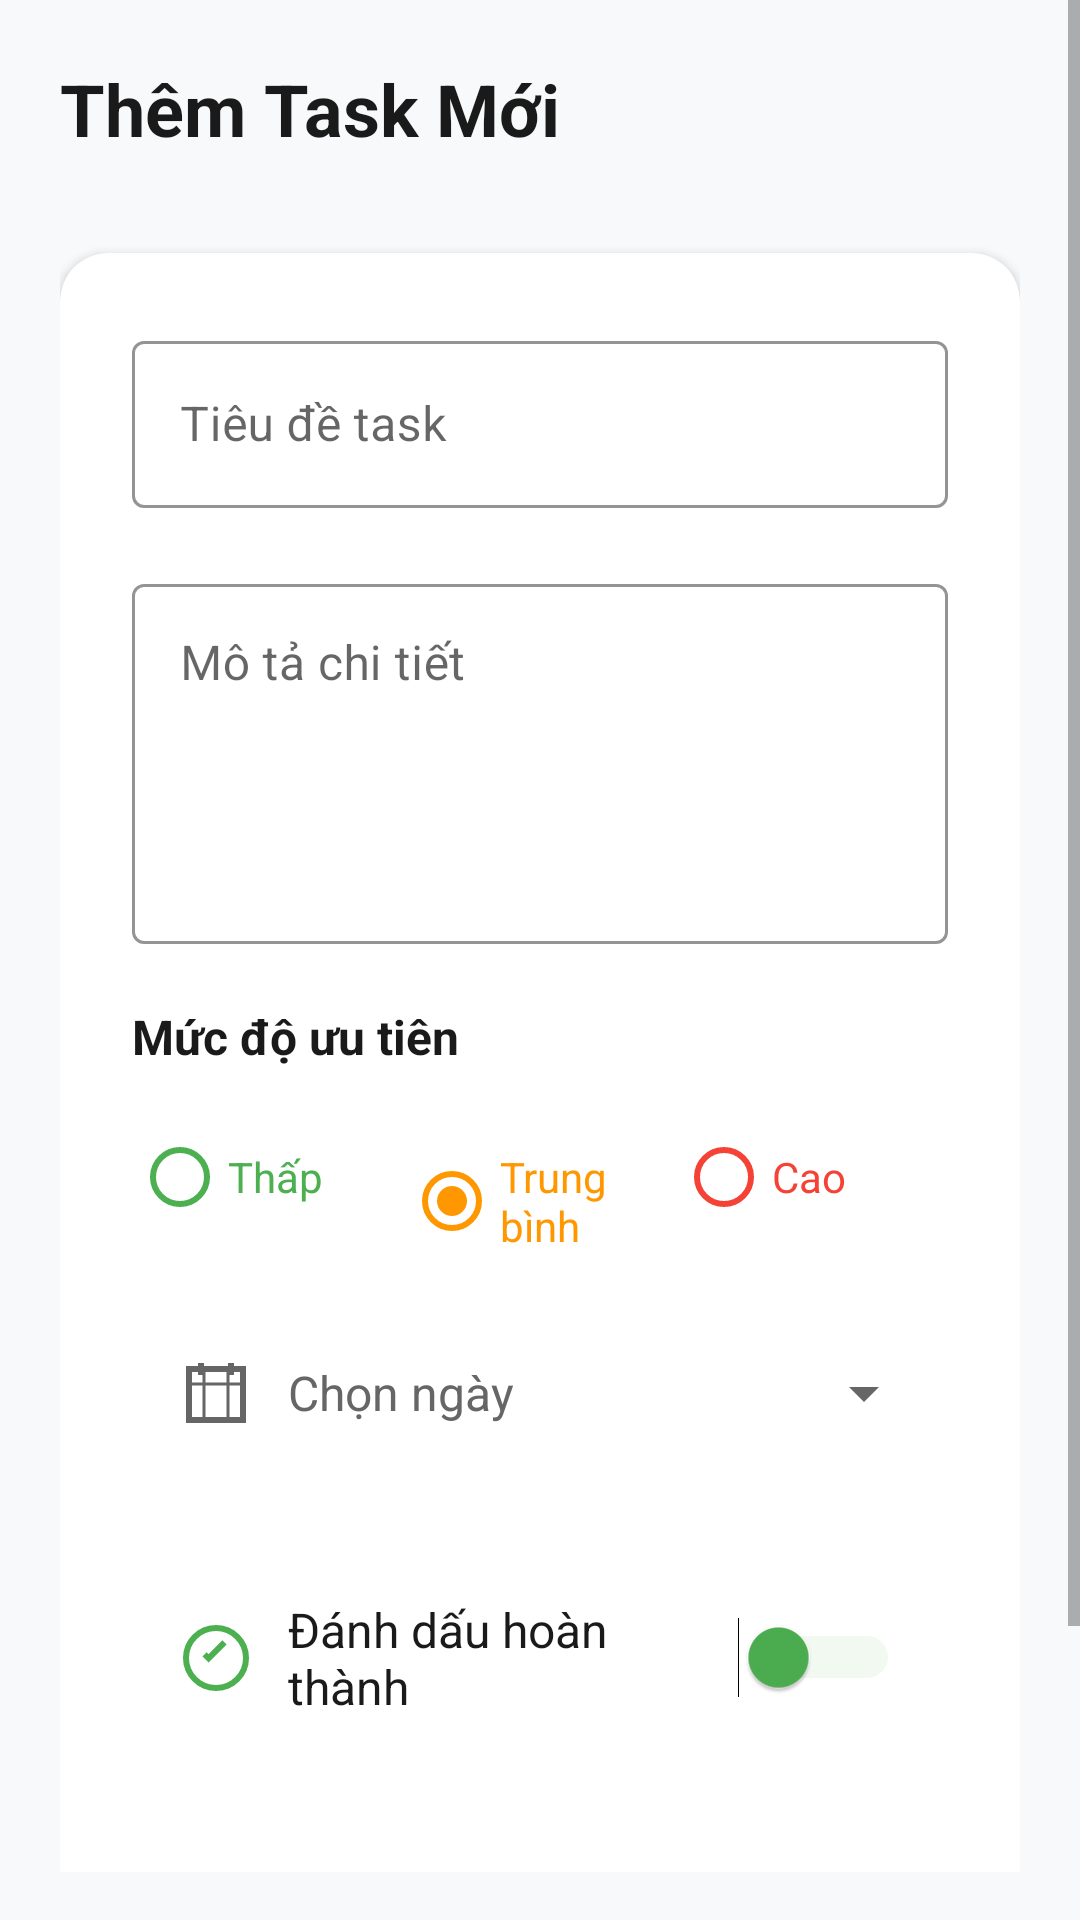

Named icons in this screenshot (1080 × 1920) and their centers, point (x, y):
arrow drop down: point (864, 1394)
calendar: point (216, 1393)
check circle: point (216, 1658)
